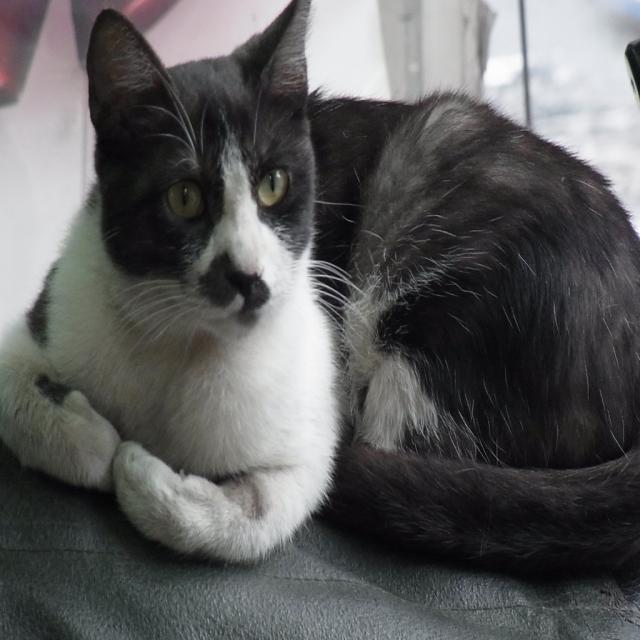Cat: (0, 0, 639, 562)
